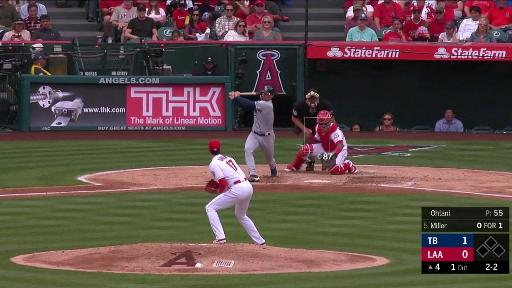pitcher: (204, 139, 268, 245)
